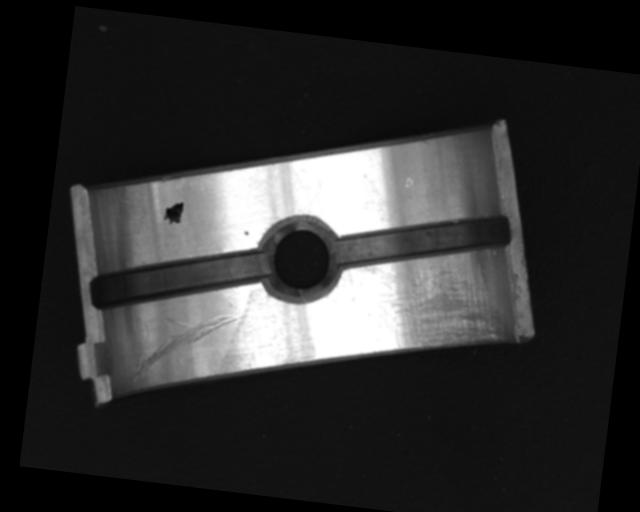blot: (162, 199, 184, 225)
bruise: (403, 176, 414, 191), (243, 229, 248, 235)
gap: (87, 229, 275, 327), (332, 195, 515, 286)
hole: (256, 213, 344, 307)
nick: (127, 298, 247, 397)
scratch: (348, 253, 517, 359)
